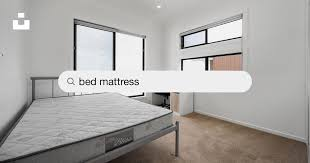bed-matress: (1, 91, 175, 163)
